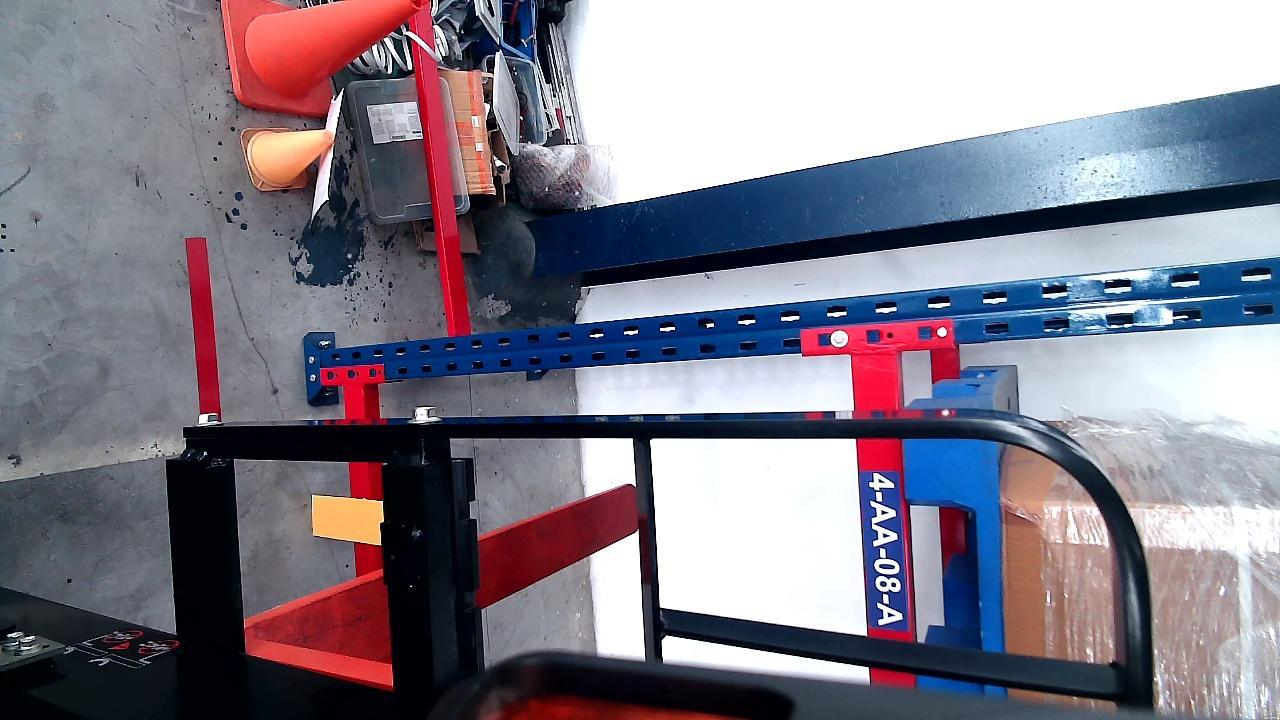red_line: (186, 236, 220, 413)
